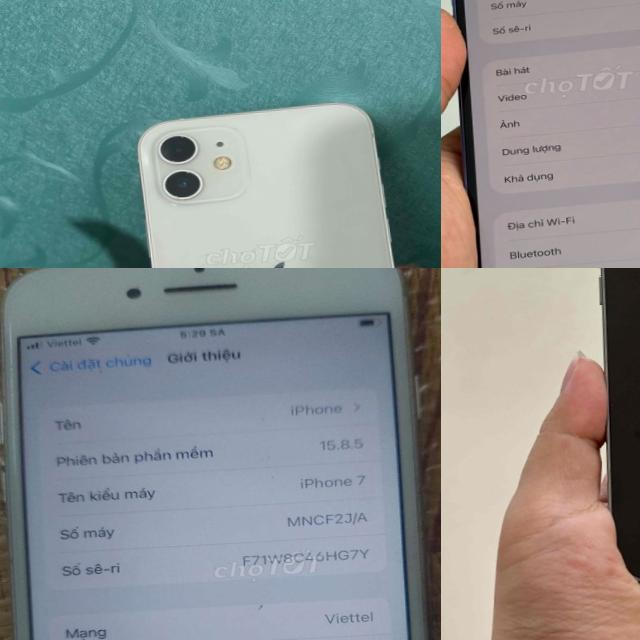gen_12_13: (134, 98, 425, 268)
gen_14: (566, 268, 640, 596)
gen_16: (454, 0, 640, 268)
gen_7_8: (0, 268, 441, 640)
